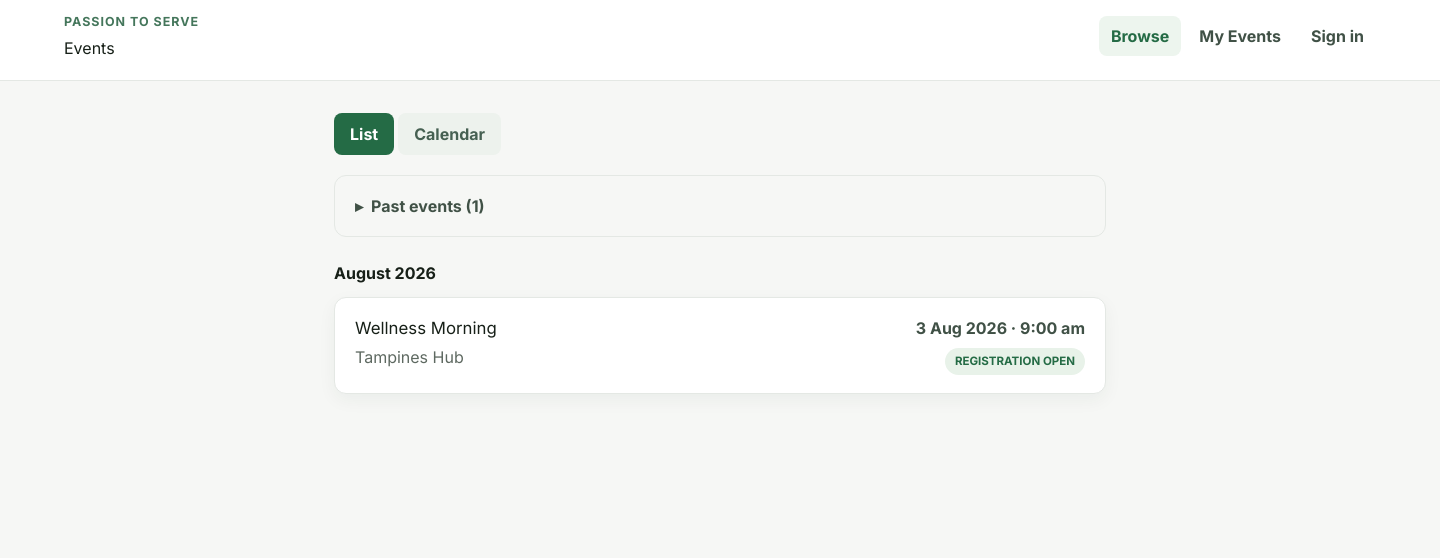
Test case: List view › collapses past events into a summary at the top, hidden until expanded
Expected: the heading "Wellness Morning" is shown, [355,316,497,341]
Expected: the text "Past events (1)" is shown, [334,175,1106,237]
Step 1. Click the heading "Past events (1)" → (428, 206), box [371,196,485,216]
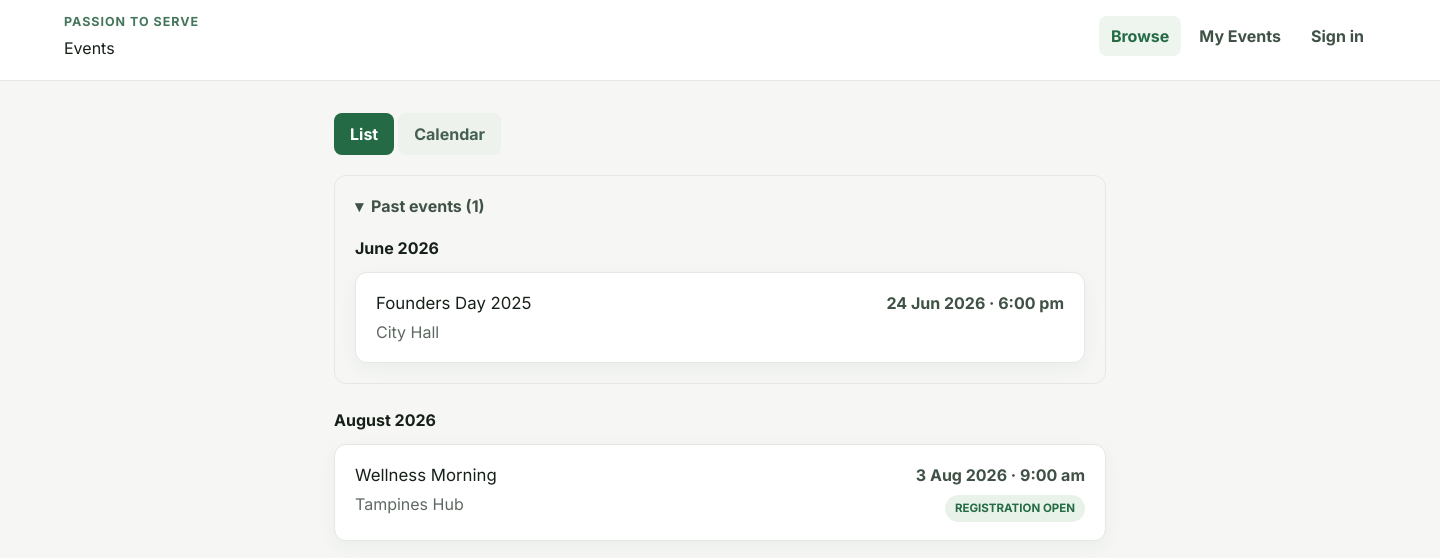
Now the heading "Founders Day 2025" is shown, box [376,291,532,316]
